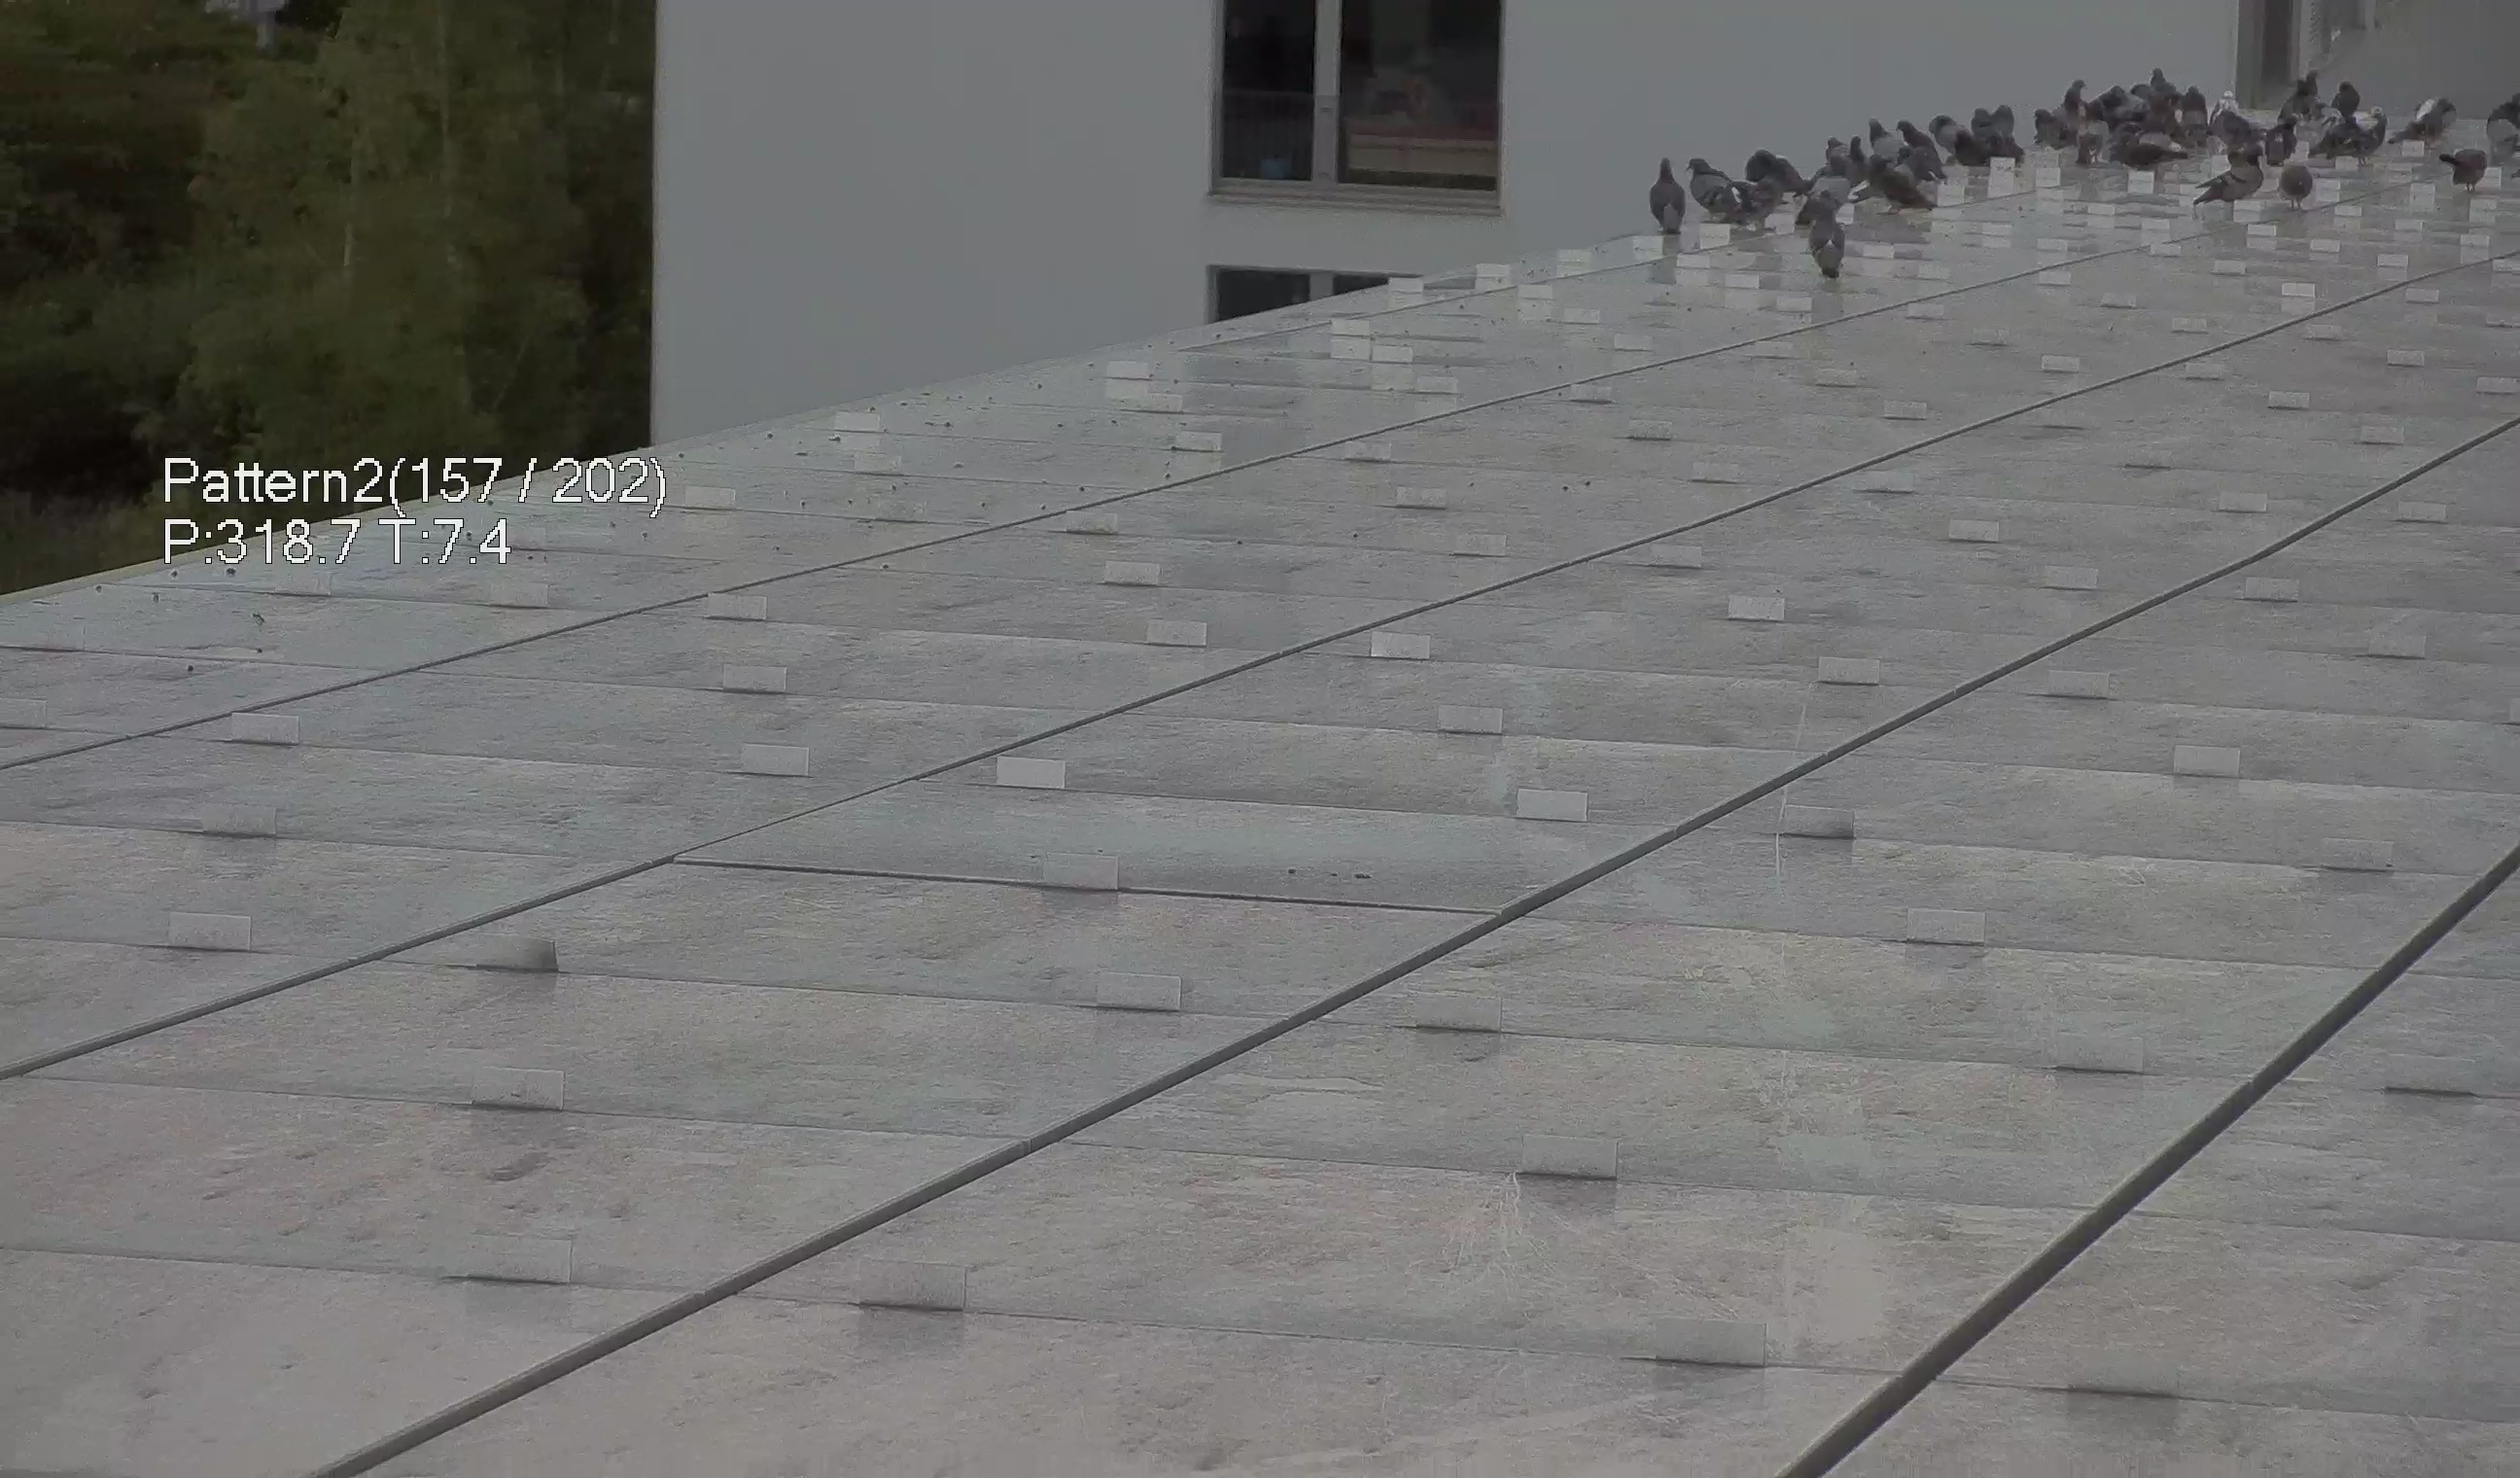Pigeon: (1648, 135, 1706, 250), (1720, 167, 1787, 227), (1801, 150, 1855, 220), (2193, 151, 2261, 206), (1864, 158, 1933, 213), (1804, 204, 1854, 280), (1688, 146, 1737, 216), (2399, 93, 2458, 150), (2068, 100, 2114, 164), (2323, 114, 2381, 162), (2110, 137, 2188, 172), (1750, 146, 1806, 190), (1855, 113, 1908, 158), (2283, 63, 2325, 120), (2436, 150, 2494, 188), (2130, 121, 2184, 162), (2029, 104, 2072, 151), (2277, 165, 2318, 215), (1926, 114, 1975, 151), (2094, 81, 2140, 120), (2210, 86, 2242, 127), (2335, 72, 2365, 114), (1989, 106, 2019, 137), (2147, 60, 2177, 86), (2066, 74, 2089, 104)
